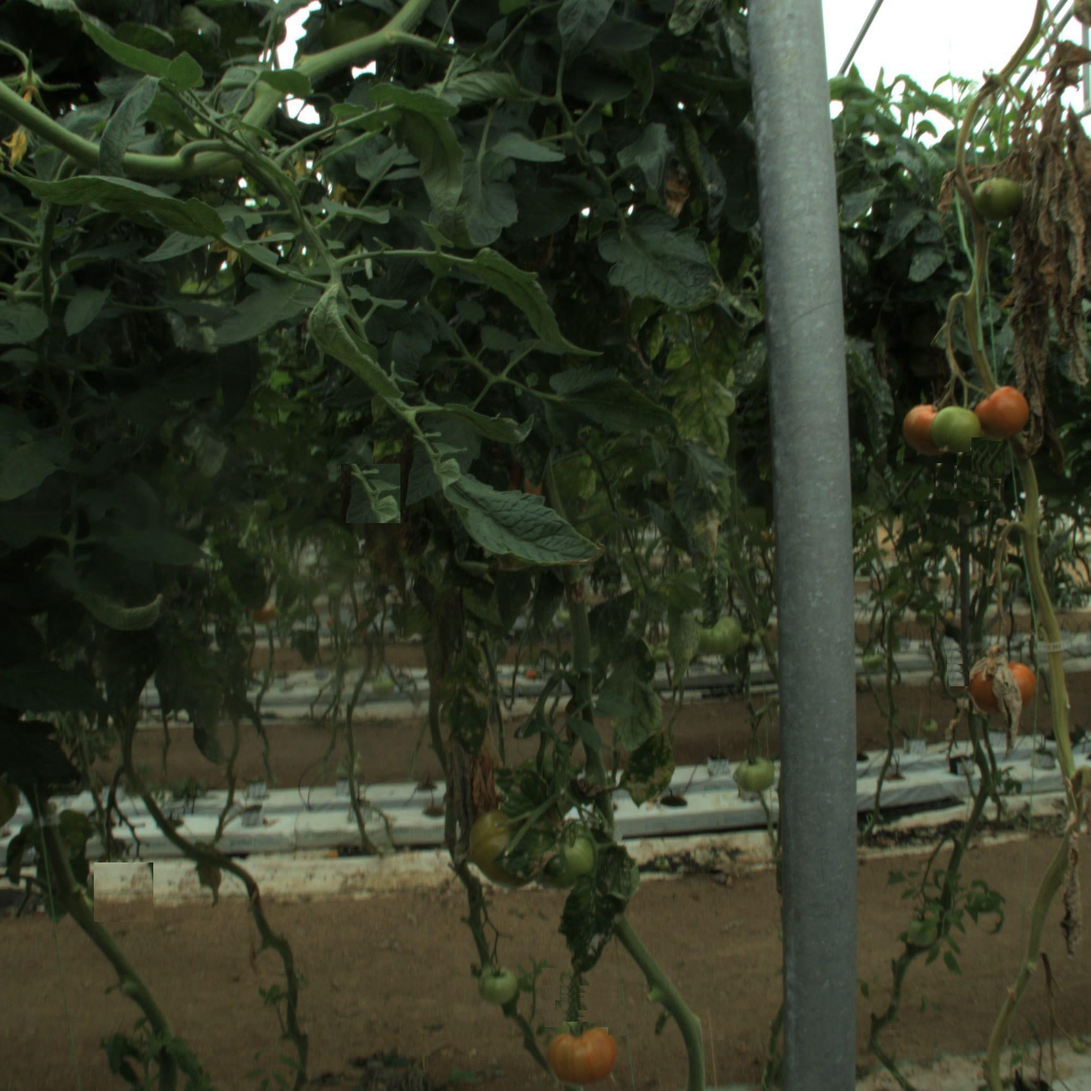fully-ripe: (968, 654, 1035, 722), (975, 387, 1029, 442), (902, 408, 947, 453)
semi-ripe: (469, 812, 543, 886), (550, 1020, 615, 1084)
unripe: (687, 603, 742, 658), (549, 826, 603, 881), (932, 405, 983, 457), (976, 174, 1023, 221), (731, 751, 776, 795), (475, 957, 519, 1002)
